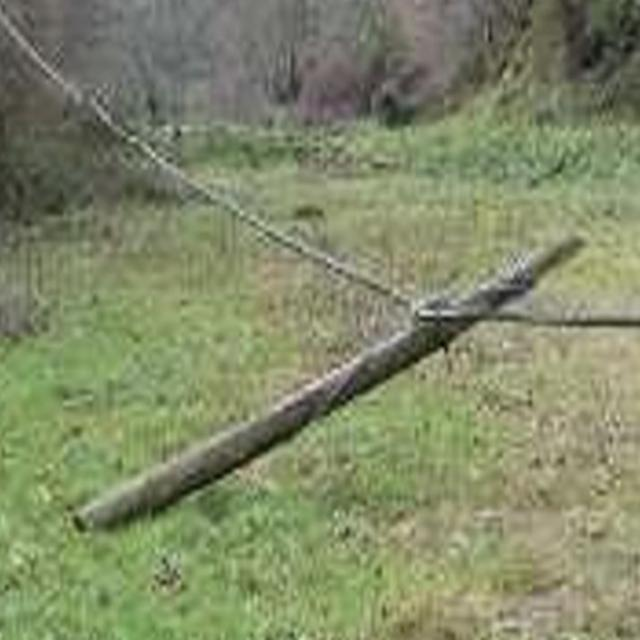Inclined Pole: (66, 230, 593, 536)
